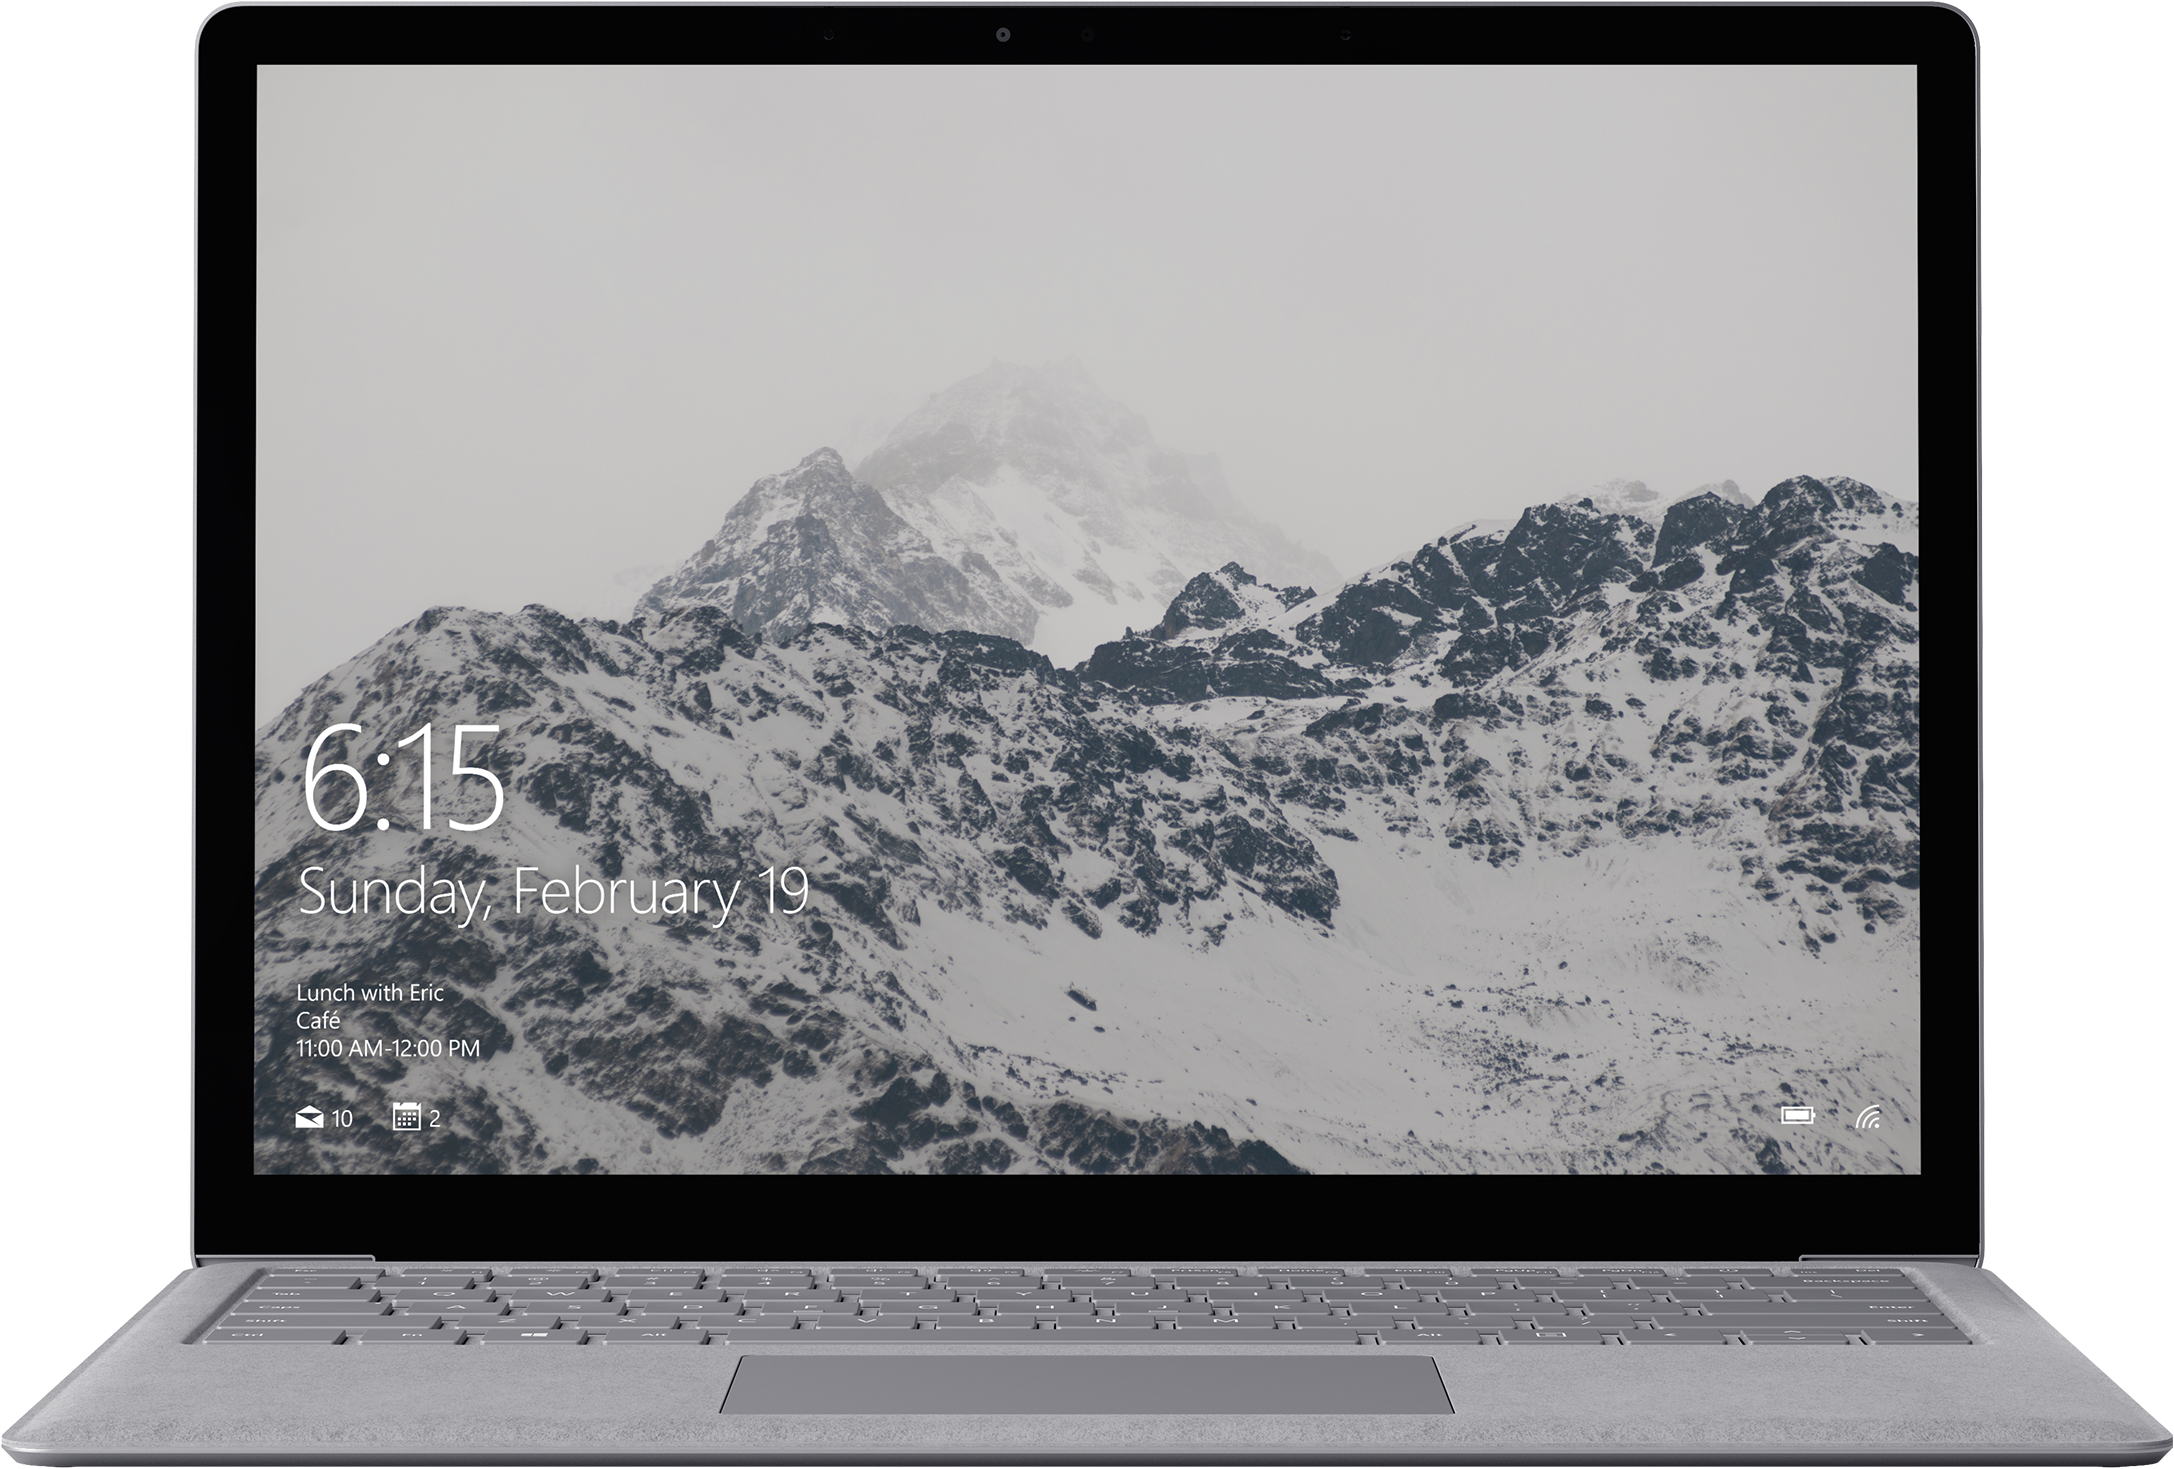Laptop: (2, 3, 2174, 1461)
